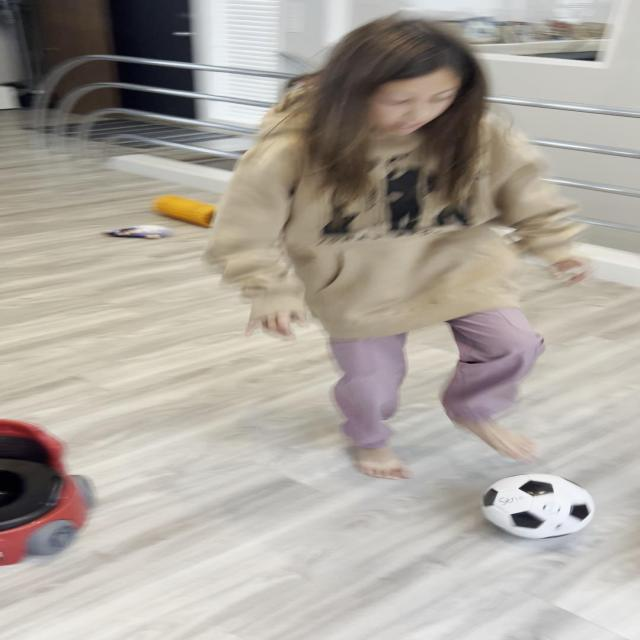Soccer Ball: (481, 472, 596, 540)
